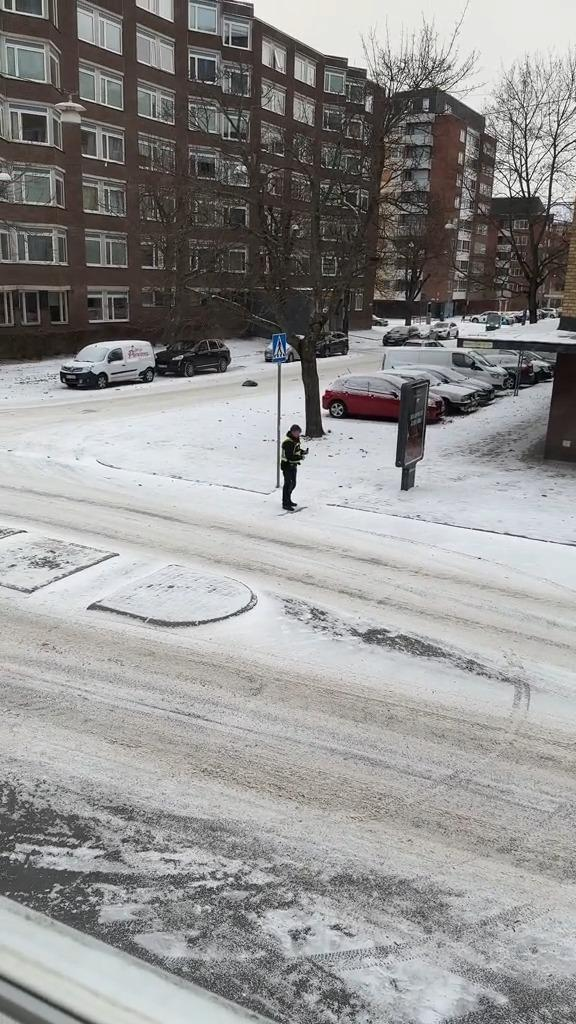parking-attendant: (281, 424, 307, 510)
